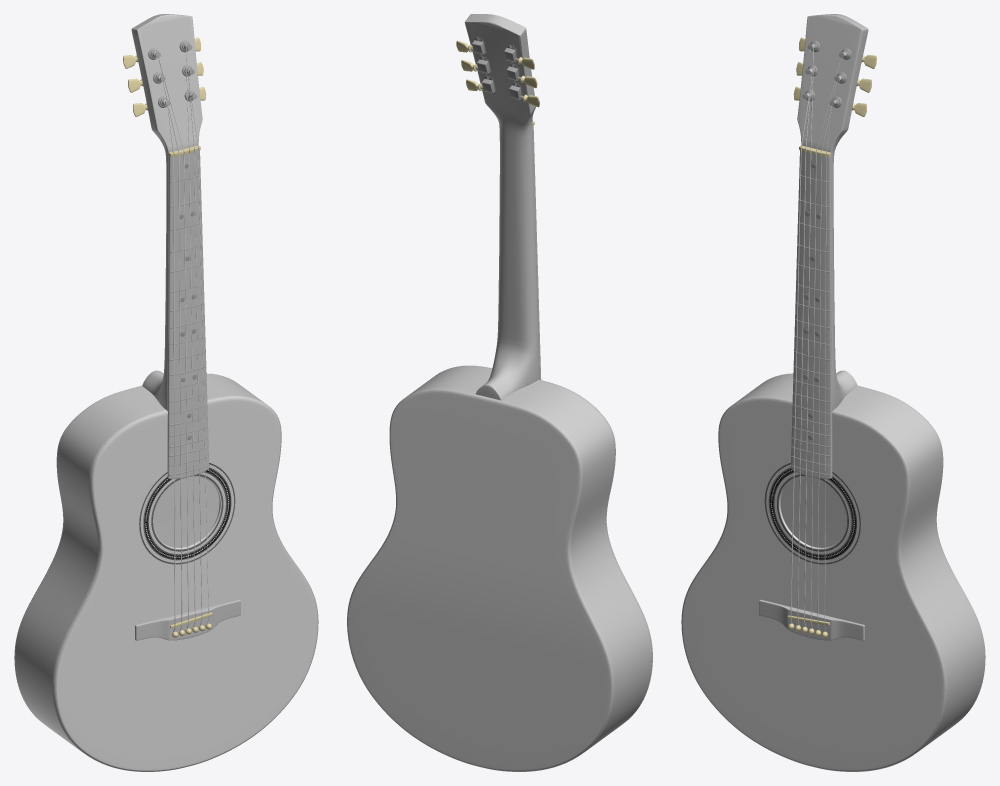
File: GuitarSimpler.fbx
3 views of the same model, side by side, from view 1: azimuth 30°, elevation 25°; view 2: azimuth 150°, elevation 25°; view 3: azimuth 330°, elevation 25° (orthographic).
Parts seen in each view (by area): view 1: body, freatboard, neck, strings, rosette, bridge, tuners, frets and freatmarks; view 2: body, neck, tuners; view 3: body, freatboard, neck, strings, rosette, bridge, tuners, frets and freatmarks.
Boxes of the visible parts, box(x1,y1,x2,y2) form: body: box(14, 373, 318, 771); freatboard: box(167, 150, 209, 478); neck: box(131, 14, 202, 411); strings: box(154, 44, 208, 631); rosette: box(139, 463, 235, 564); bridge: box(135, 599, 240, 640); tuners: box(123, 37, 206, 116); frets and freatmarks: box(169, 163, 209, 475); body: box(347, 365, 652, 771); neck: box(464, 14, 539, 400); tuners: box(456, 37, 539, 107); body: box(681, 373, 985, 771); freatboard: box(790, 150, 832, 478); neck: box(797, 14, 868, 411); strings: box(790, 44, 845, 631); rosette: box(764, 462, 860, 564); bridge: box(759, 599, 864, 640); tuners: box(793, 37, 876, 116); frets and freatmarks: box(790, 163, 830, 475).
Size of the model in its own units: 37.25 by 98.65 by 11.61.
